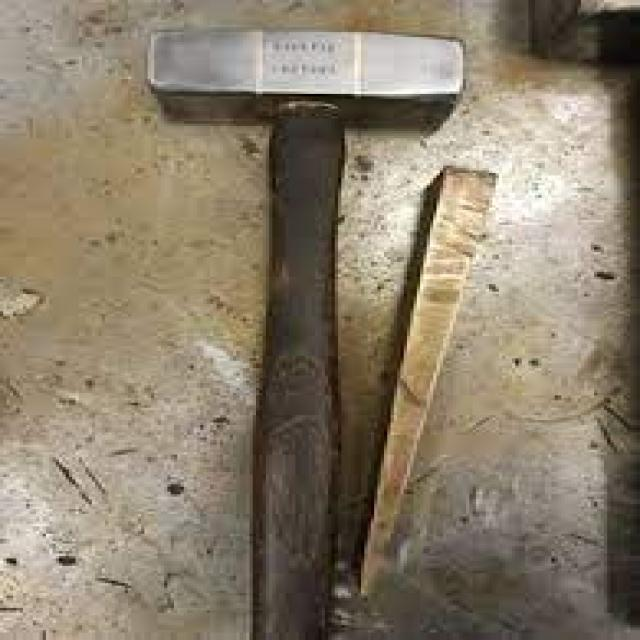hammer: (134, 15, 470, 640)
